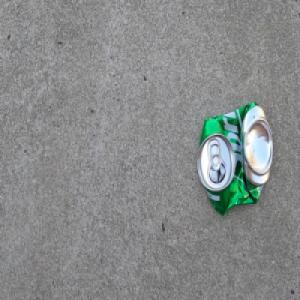SodaCan: (196, 100, 274, 217)
